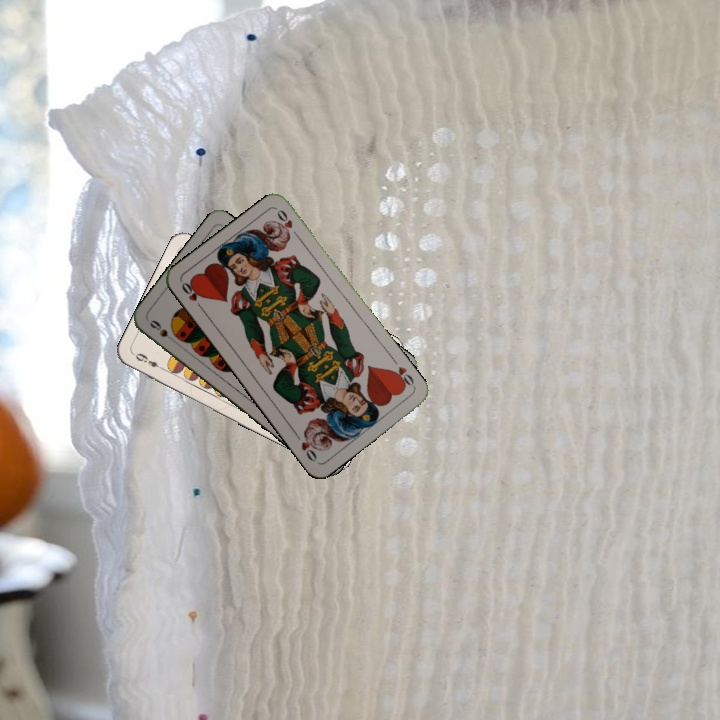E9: (130, 349, 167, 373)
HO: (177, 278, 206, 313), (387, 362, 417, 391)
S9: (145, 316, 180, 346)
